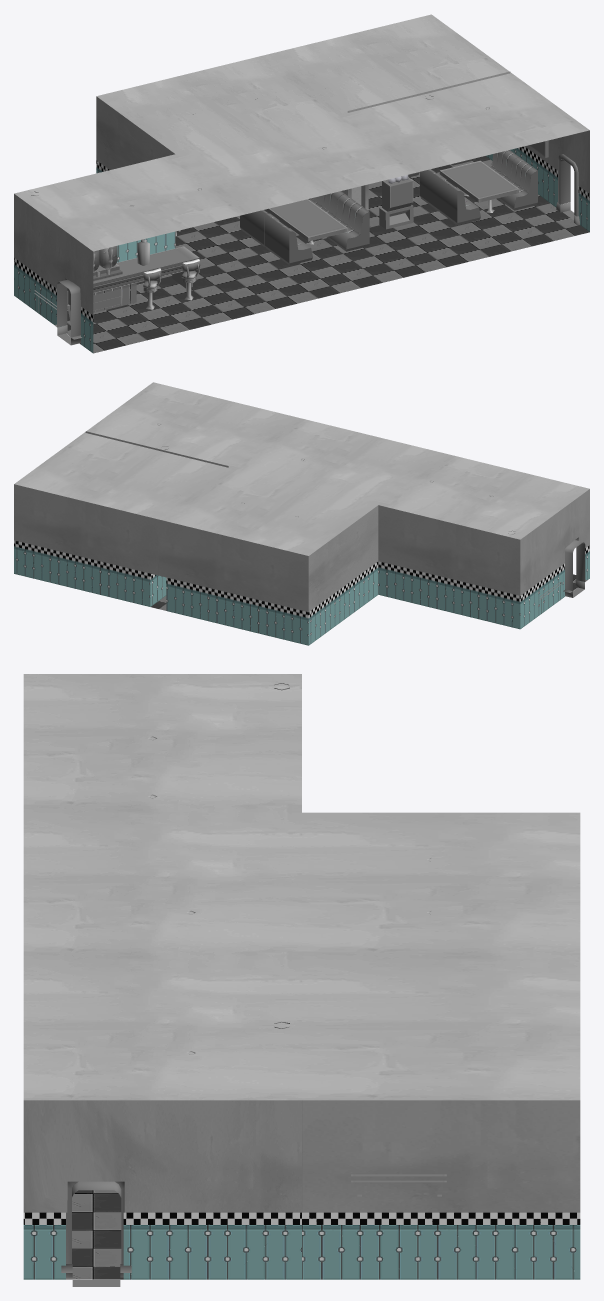
Rendered from MHS_Cafeteria_L2_R3_optimized.fbx.
3 views of the same model, one above another, from view 1: azimuth 30°, elevation 25°; view 2: azimuth 150°, elevation 25°; view 3: azimuth 270°, elevation 25° (orthographic). The views are drawn at different scales.
Parts seen in each view (by area): view 1: lightmap0, lightmap1, lightmap-1; view 2: lightmap0, lightmap-1, lightmap1; view 3: lightmap0, lightmap-1.
Boxes of the visible parts, x1,y1,x2,y2 form: lightmap0: (14,14,589,353); lightmap1: (31,71,548,323); lightmap-1: (57,159,574,345); lightmap0: (14,382,589,645); lightmap-1: (565,540,585,597); lightmap1: (85,423,561,613); lightmap0: (23,674,580,1279); lightmap-1: (72,1181,121,1286).
Bounding box in the file's own units: 30.91 × 6 × 16.51.
